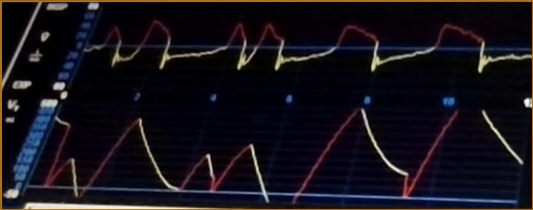Double_Triggering Flow: (85, 16, 508, 78)
Double_Triggering Volume: (47, 109, 522, 198)
